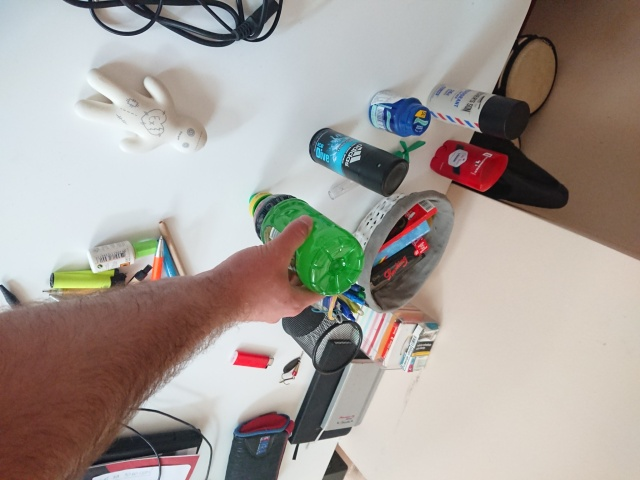Vindi Iso Sport Lemon-Grapefruit 500mL: (246, 189, 368, 299)
